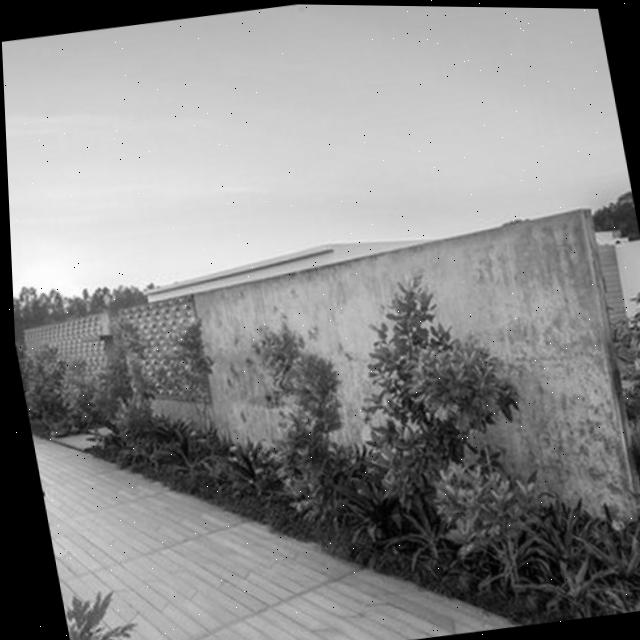building: (10, 197, 640, 599)
